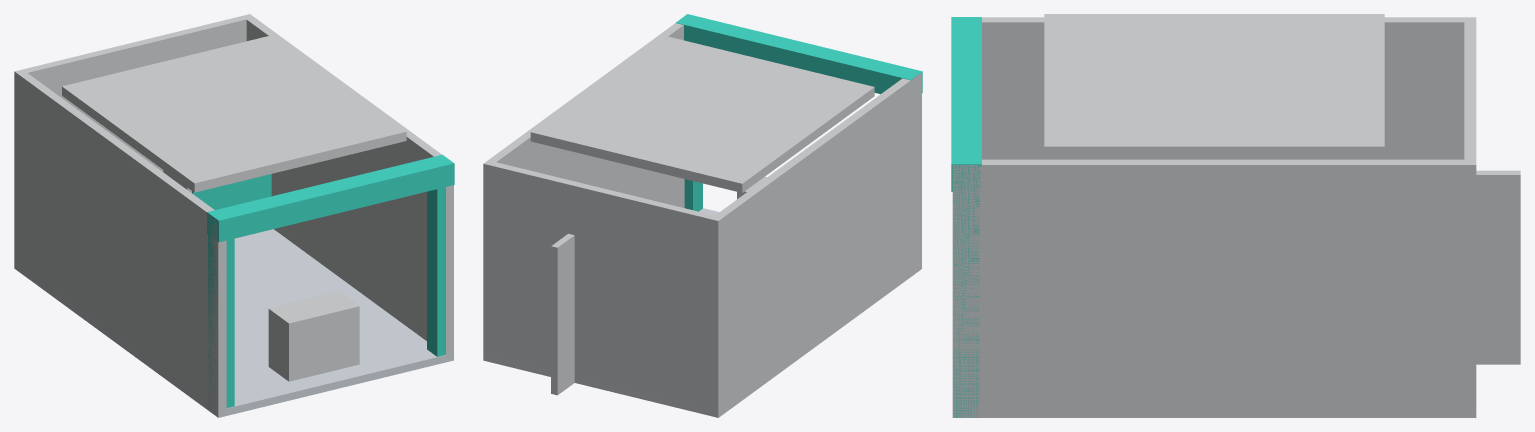
3 renders of one model, left to right at view 1: azimuth 30°, elevation 25°; view 2: azimuth 150°, elevation 25°; view 3: azimuth 270°, elevation 25°, orthographic. The views are drawn at different scales.
Visible parts, largest first — view 1: Exhibition Booth Concept; view 2: Exhibition Booth Concept; view 3: Exhibition Booth Concept.
Part boxes in pixels (x1,y1,x2,y2): Exhibition Booth Concept: (14, 14, 454, 417); Exhibition Booth Concept: (483, 14, 922, 417); Exhibition Booth Concept: (951, 14, 1520, 417).
Bounding box in the file's own units: 4 × 3.34 × 6.52.
